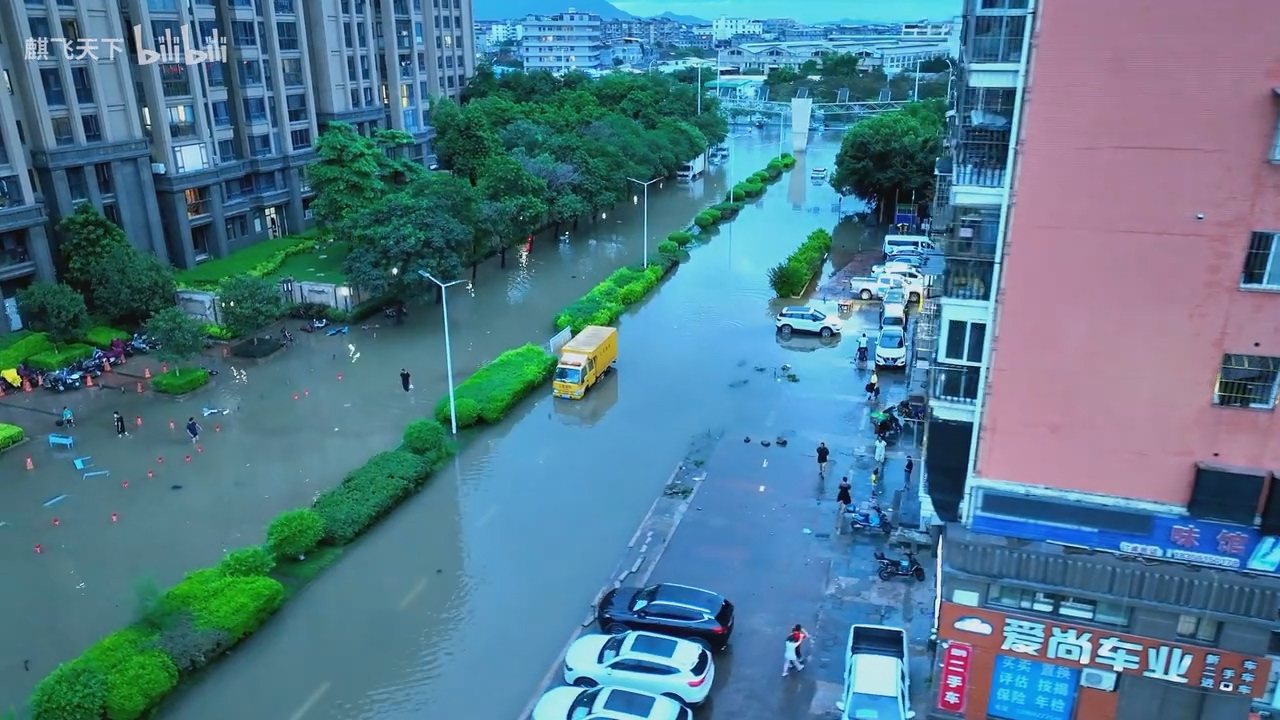puddle: (132, 356, 572, 720)
